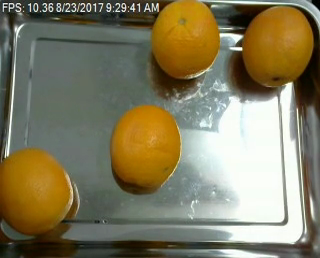Orange: (1, 148, 75, 234), (111, 104, 183, 186), (243, 5, 313, 87), (150, 1, 221, 79)
